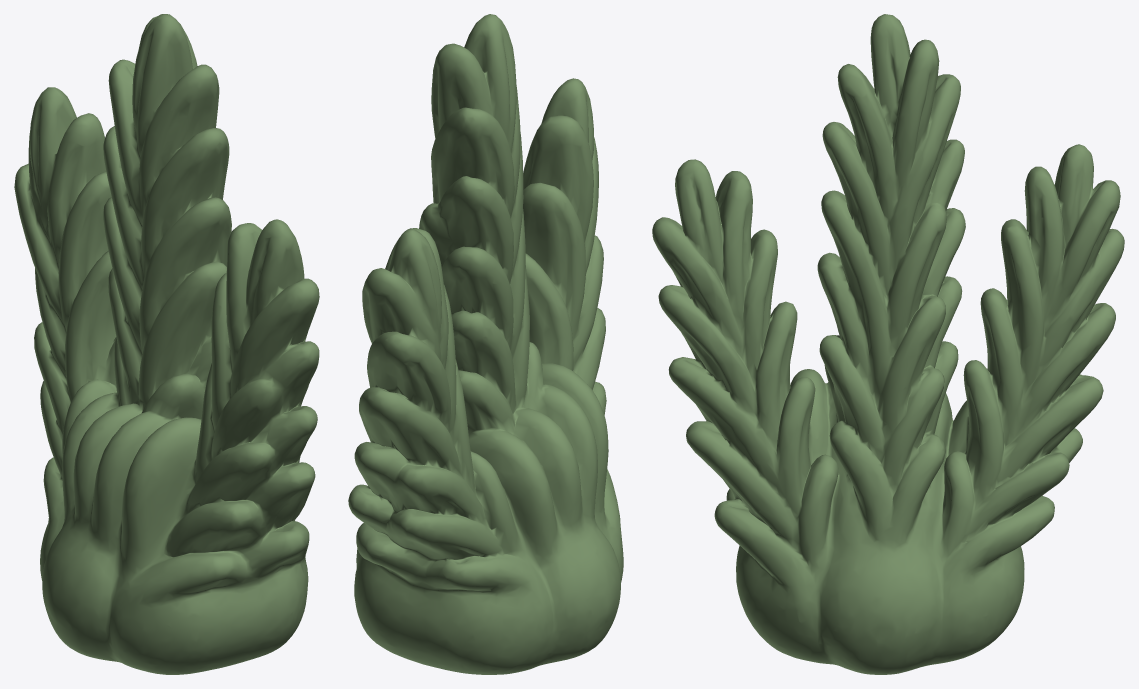
Rendered from rosemary-bundle.glb.
3 renders of one model, left to right at view 1: azimuth 30°, elevation 25°; view 2: azimuth 150°, elevation 25°; view 3: azimuth 270°, elevation 25°, orthographic.
Parts seen in each view (by area): view 1: tripo_printable_source; view 2: tripo_printable_source; view 3: tripo_printable_source.
Part boxes in pixels (x1,y1,x2,y2): tripo_printable_source: (14, 14, 319, 674); tripo_printable_source: (348, 14, 623, 674); tripo_printable_source: (652, 14, 1124, 674).
Size of the model in its own units: 41.15 by 100 by 70.
